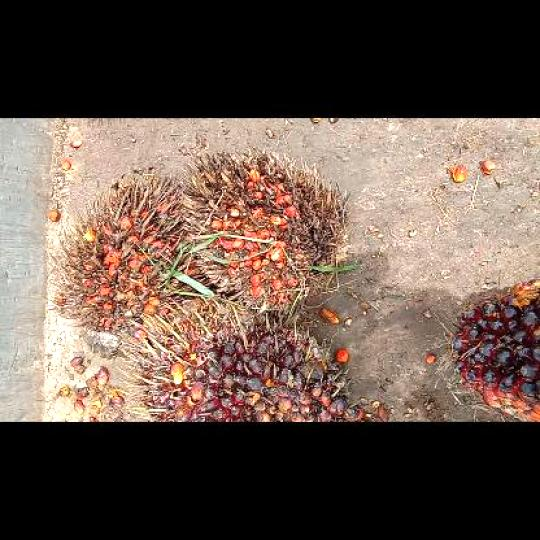masak: (116, 295, 367, 422)
terlalu masak: (178, 148, 354, 313), (44, 166, 190, 357)
